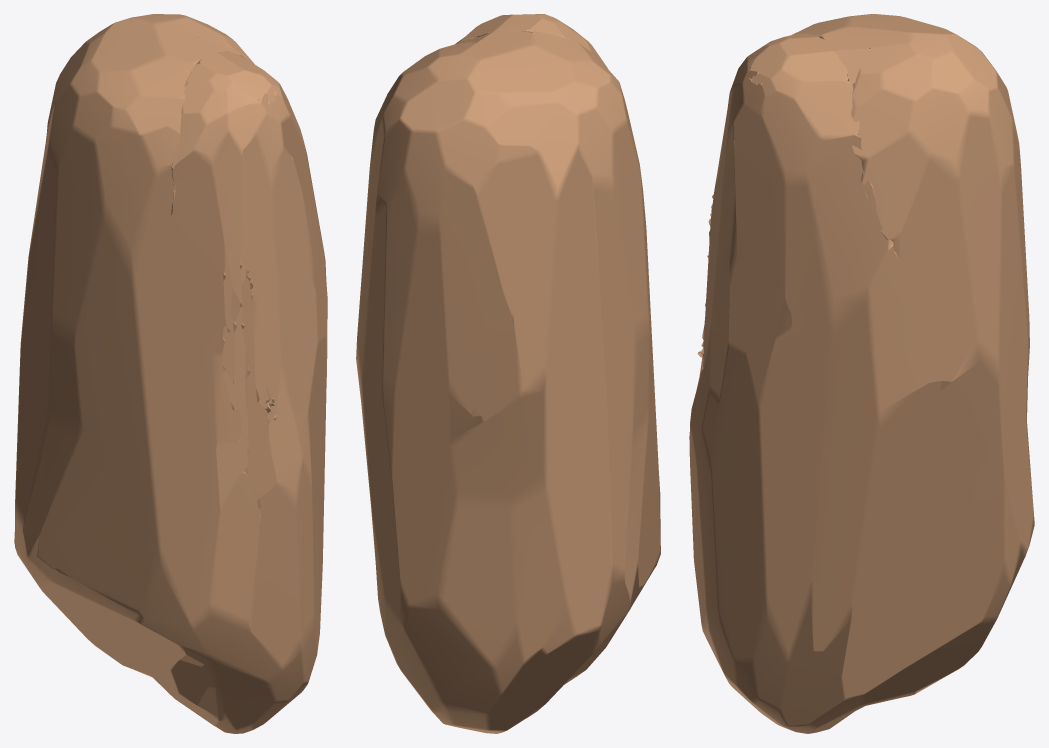
3 views of the same model, side by side, from view 1: azimuth 30°, elevation 25°; view 2: azimuth 150°, elevation 25°; view 3: azimuth 270°, elevation 25° (orthographic). The views are drawn at different scales.
Parts seen in each view (by area): view 1: Mesh_11_LOD0; view 2: Mesh_11_LOD0; view 3: Mesh_11_LOD0.
Boxes of the visible parts, x1,y1,x2,y2 form: Mesh_11_LOD0: (14,14,327,733); Mesh_11_LOD0: (356,14,660,733); Mesh_11_LOD0: (689,14,1034,733).
Size of what is drawn, in the model's own units: 307 by 768 by 355.
